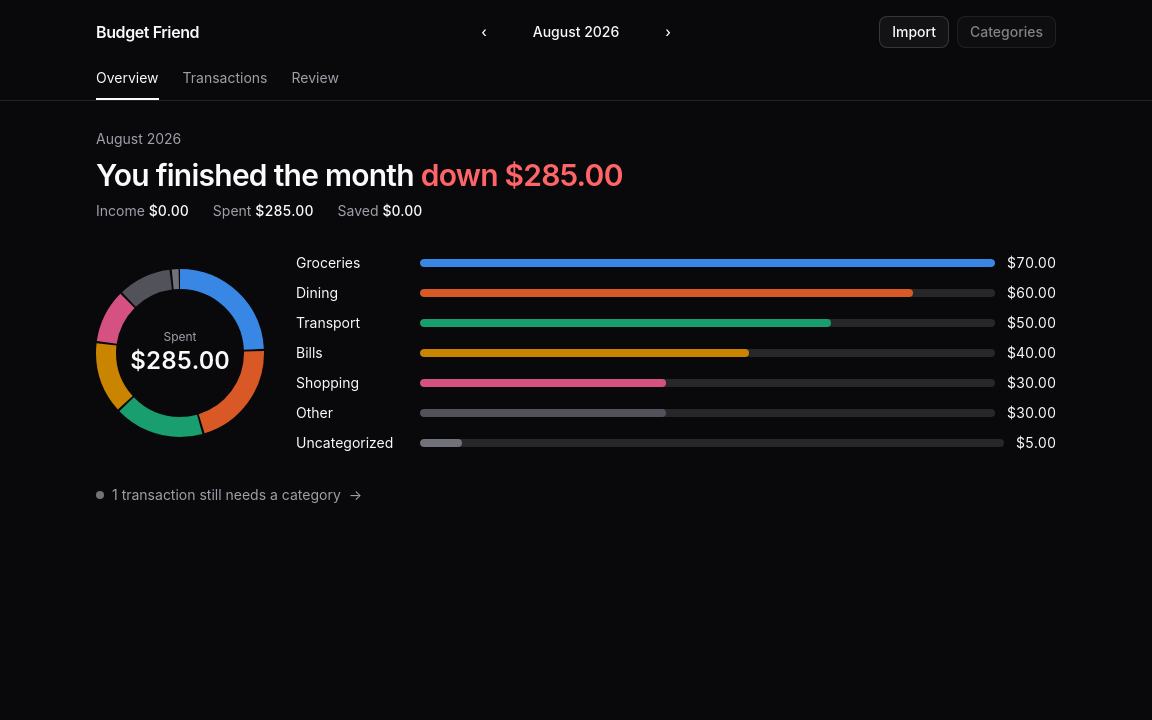
Test: hovering Other reveals the categories it contains
Expected: the element named "spending by category" does not show "Health", [96, 269, 264, 437]
Hover over the list item "Other $30.00" at (676, 413), box [296, 403, 1056, 423]
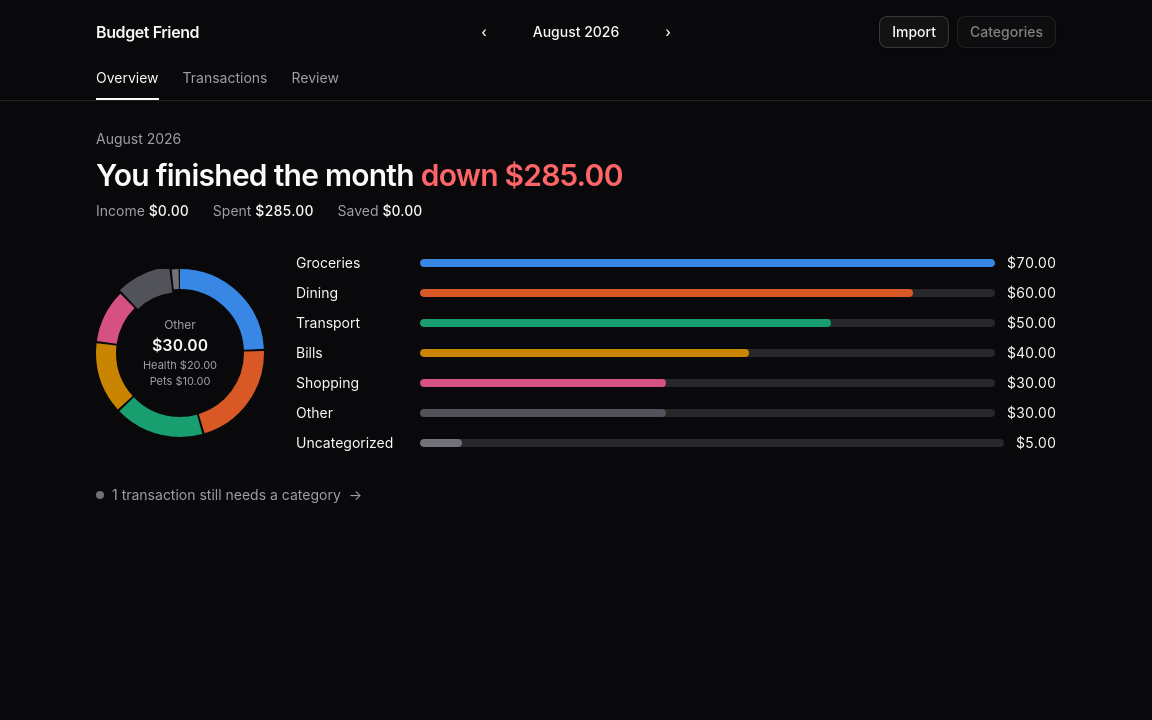
Now the element named "spending by category" shows "Health $20.00", box [96, 269, 264, 437]
Now the element named "spending by category" shows "Pets $10.00", box [96, 269, 264, 437]
Move the pointer off the list item "Other $30.00", box [296, 403, 1056, 423]
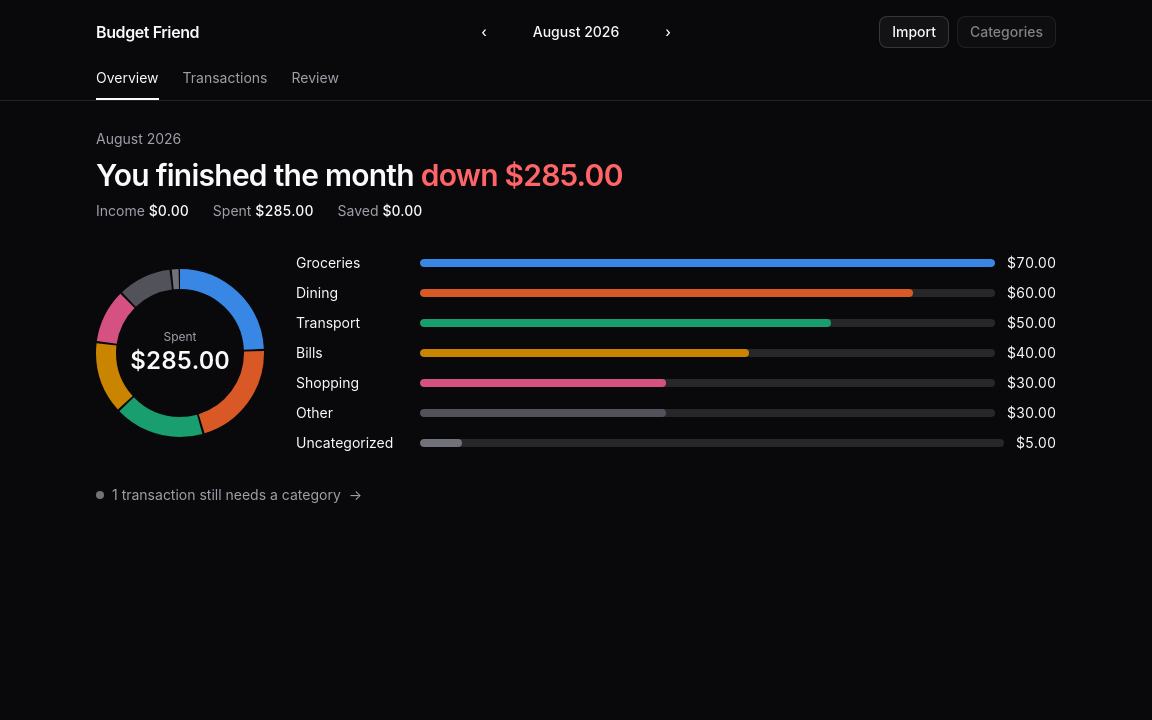
Now the element named "spending by category" no longer shows "Health", box [96, 269, 264, 437]
Now the element named "spending by category" reads "Spent $285.00", box [96, 269, 264, 437]
